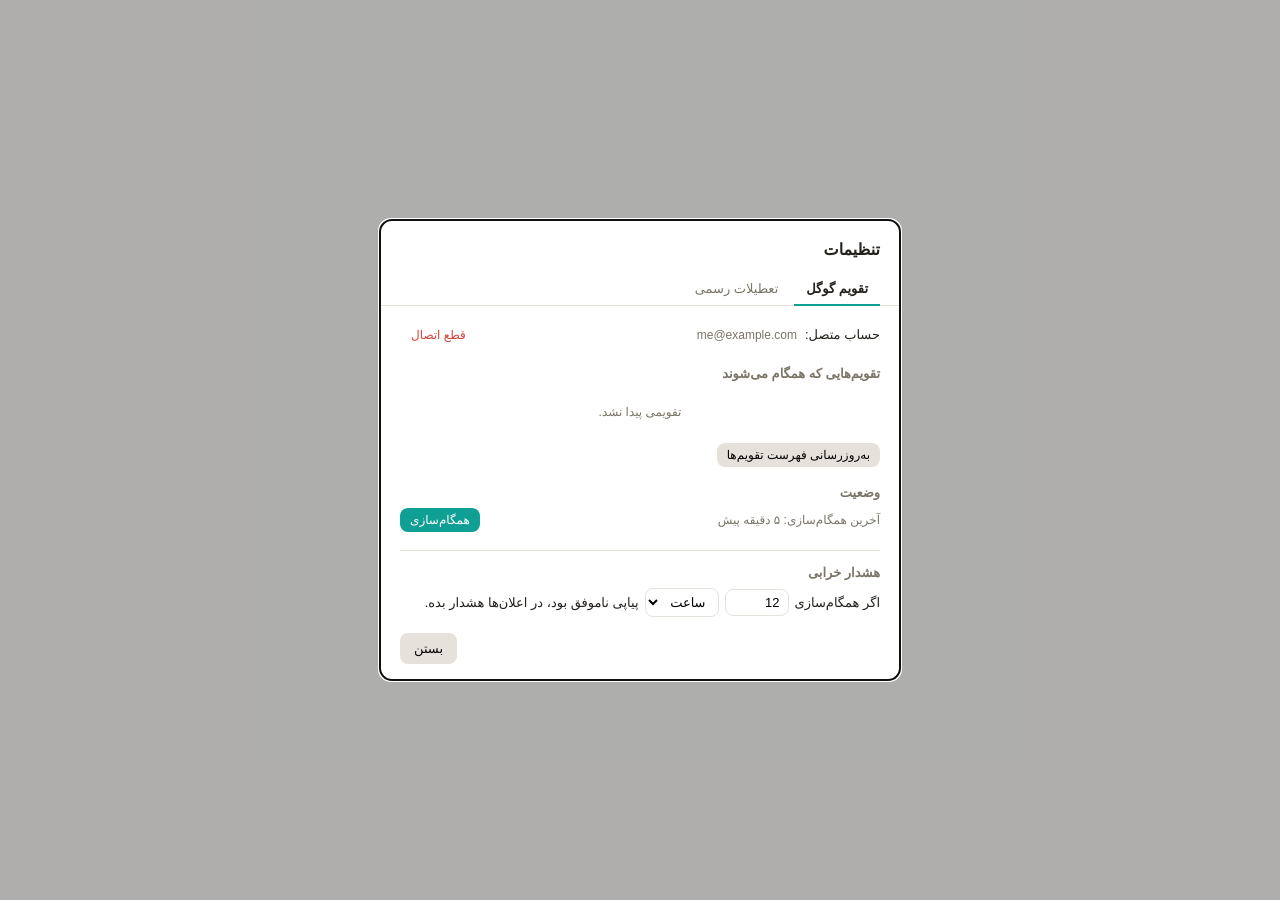
Test: Settings — failure alert thresholds › shows each job its stored threshold in the most natural unit
Check: the number field named "مدت" holds "12", box x1=724 y1=589 x2=788 y2=616
Check: the dropdown named "واحد مدت" shows "ساعت", box x1=644 y1=588 x2=718 y2=617
Click the tab "تعطیلات رسمی": coordinates (736, 289) x1=683 y1=273 x2=790 y2=306
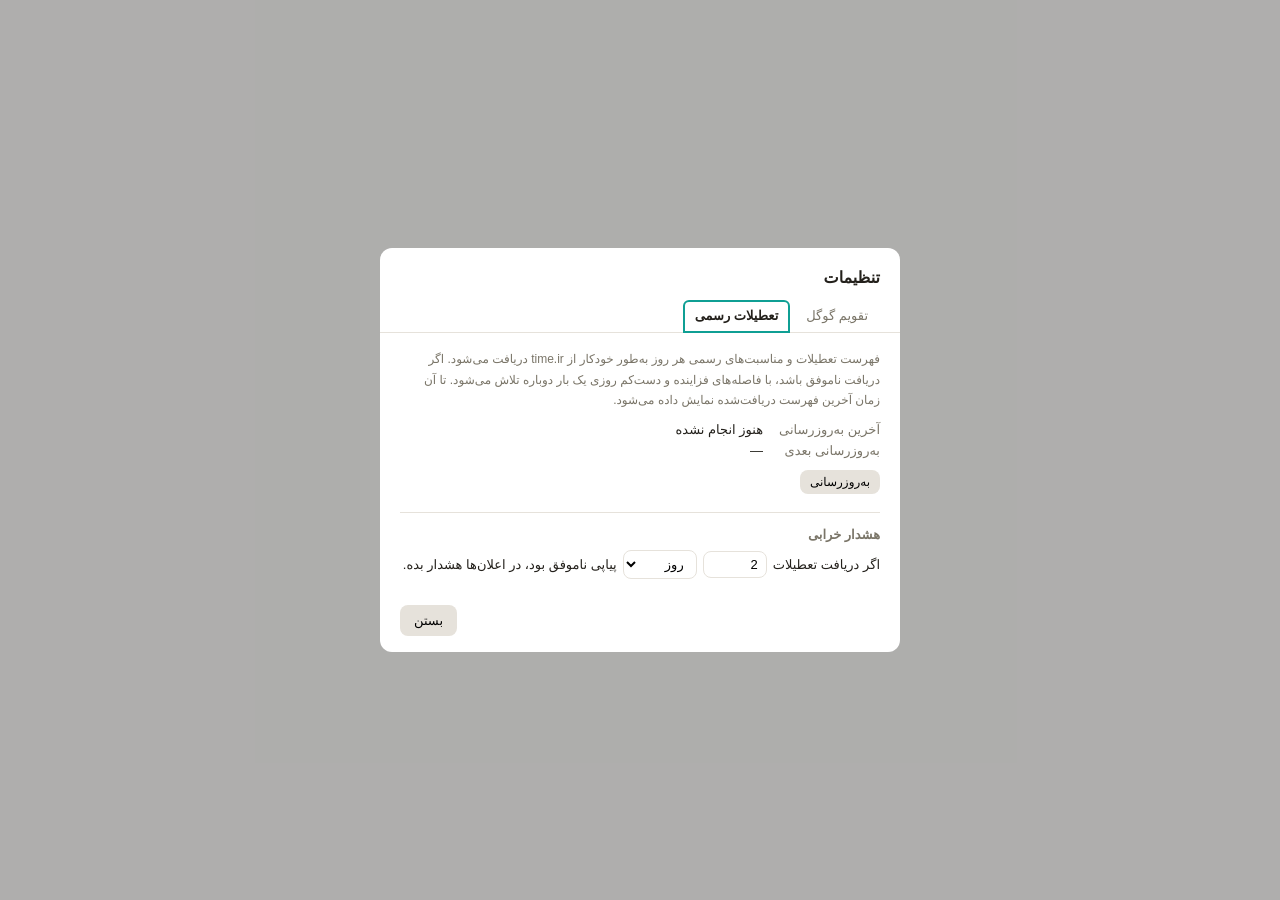
Check: the number field named "مدت" holds "2", box x1=703 y1=551 x2=767 y2=578
Check: the dropdown named "واحد مدت" shows "روز", box x1=623 y1=550 x2=697 y2=579
Check: the element "هشدار خرابی" shows "اگر دریافت تعطیلات", box x1=400 y1=512 x2=880 y2=579
